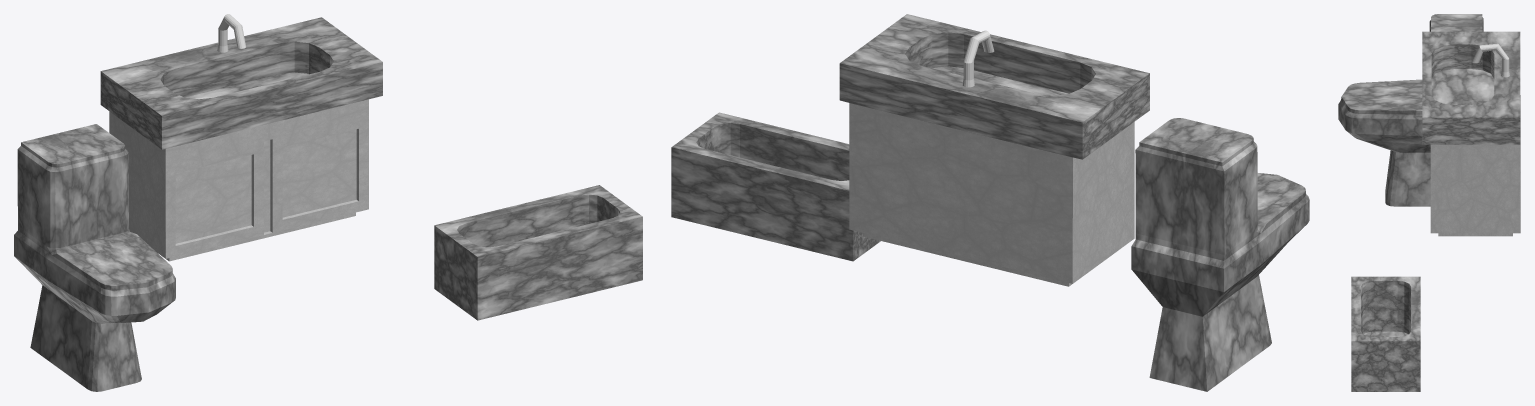
The model's file is Bathroom.fbx.
3 views of the same model, side by side, from view 1: azimuth 30°, elevation 25°; view 2: azimuth 150°, elevation 25°; view 3: azimuth 270°, elevation 25° (orthographic). The views are drawn at different scales.
Parts seen in each view (by area): view 1: Toilet, Sink_cupboard, Sink, Bathrub, Tap; view 2: Sink_cupboard, Toilet, Sink, Bathrub, Tap; view 3: Sink, Toilet, Sink_cupboard, Bathrub, Tap.
Part boxes in pixels (x1,y1,x2,y2): Toilet: [14, 124, 175, 391]; Sink_cupboard: [109, 99, 368, 261]; Sink: [100, 17, 382, 149]; Bathrub: [434, 185, 642, 320]; Tap: [217, 14, 246, 52]; Sink_cupboard: [849, 103, 1134, 286]; Toilet: [1131, 118, 1309, 391]; Sink: [839, 14, 1149, 159]; Bathrub: [671, 112, 880, 261]; Tap: [962, 30, 994, 87]; Sink: [1422, 31, 1520, 144]; Toilet: [1338, 14, 1483, 206]; Sink_cupboard: [1430, 95, 1520, 236]; Bathrub: [1351, 276, 1420, 391]; Tap: [1472, 43, 1509, 77].
Size of the model in its own units: 37108 by 18110 by 13468.
5 materials, 4 textured.
